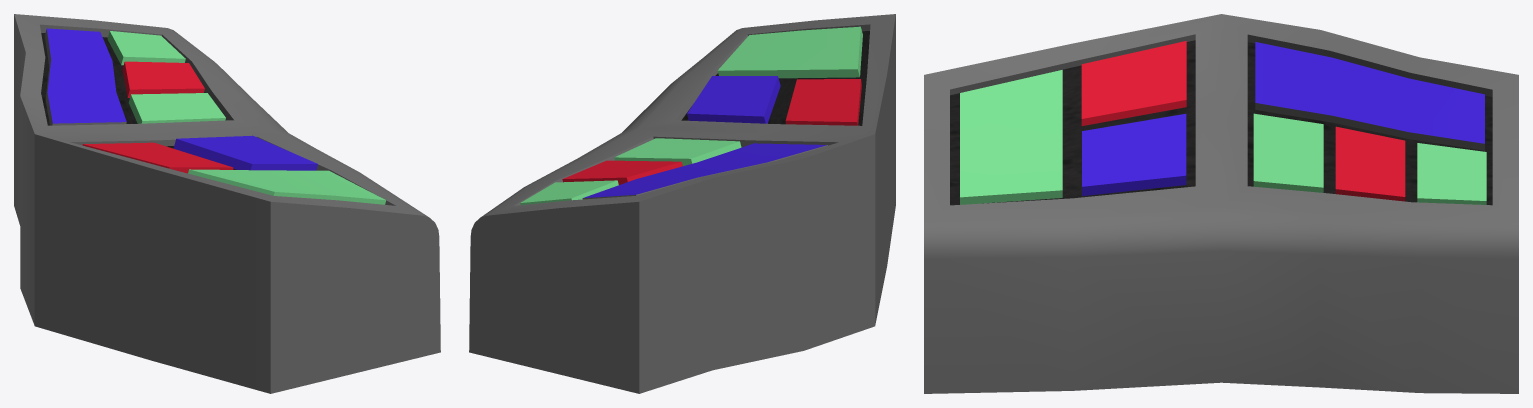
Rendered from ControlPanelCurved.fbx.
The picture shows the model from 3 angles, left to right: view 1: azimuth 30°, elevation 25°; view 2: azimuth 150°, elevation 25°; view 3: azimuth 270°, elevation 25°; orthographic projection. The views are drawn at different scales.
Visible parts, largest first — view 1: ControlPanel.001; view 2: ControlPanel.001; view 3: ControlPanel.001.
Boxes of the visible parts, <box> form: ControlPanel.001: <box>14,14,440,393</box>; ControlPanel.001: <box>469,14,895,393</box>; ControlPanel.001: <box>924,14,1518,393</box>.
Size of the model in its own units: 302 by 200 by 484.
